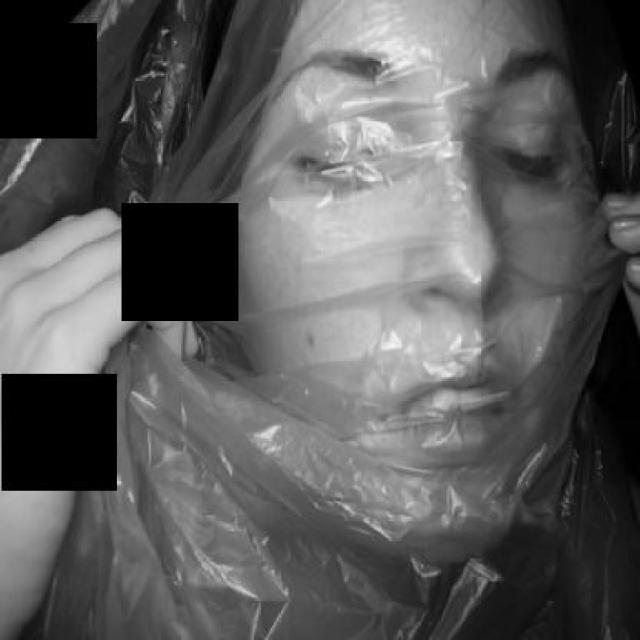plastic bag: (1, 1, 638, 638)
